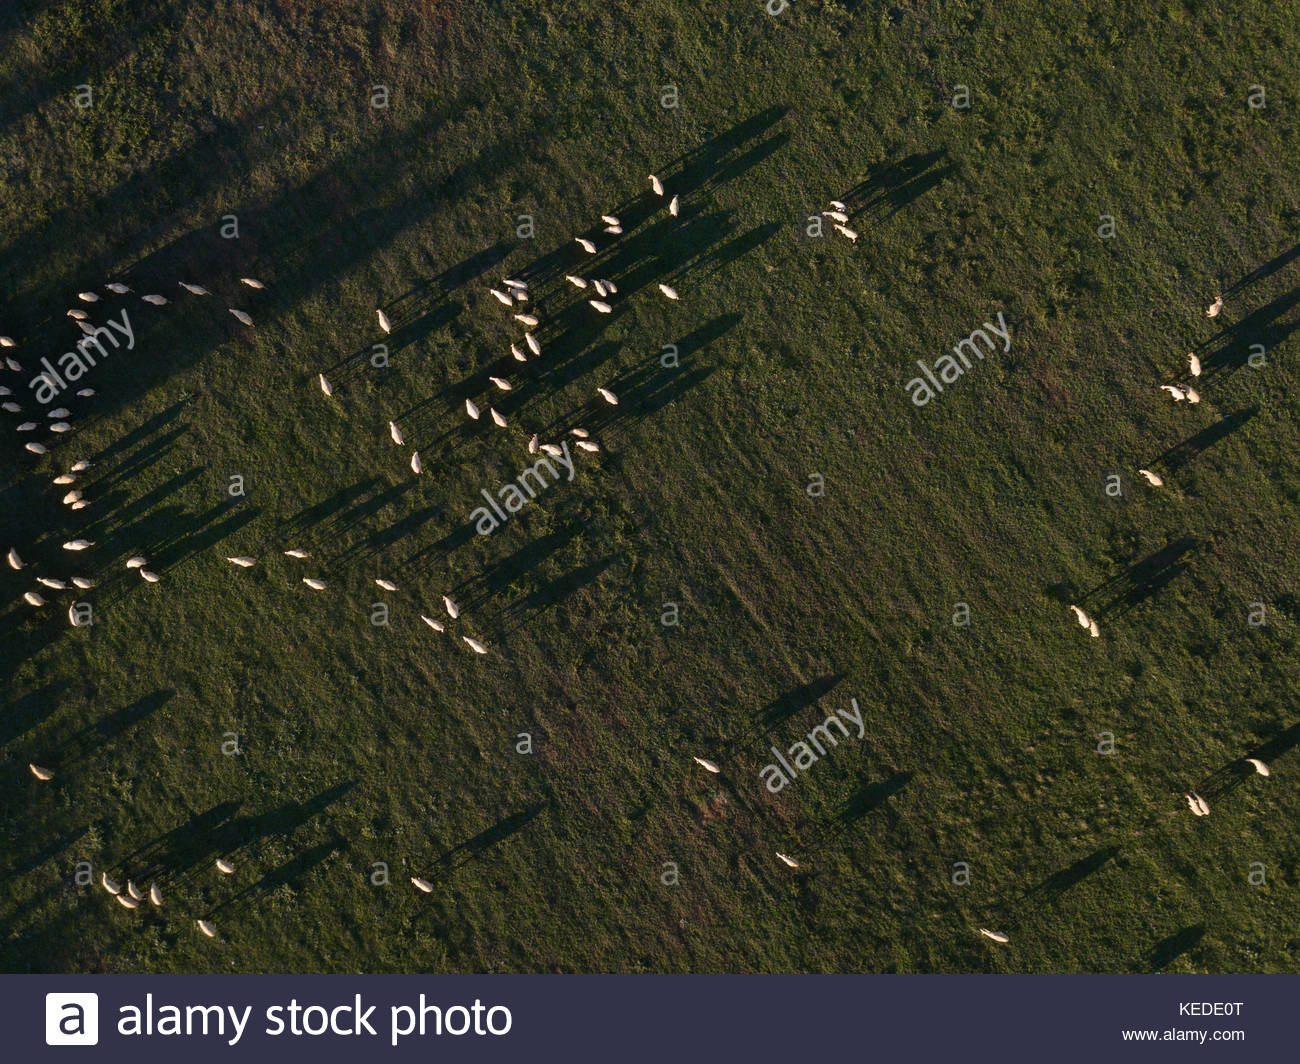sheep: (229, 305, 255, 327), (177, 279, 209, 296), (694, 754, 722, 773), (35, 576, 70, 591), (1177, 380, 1200, 404), (1139, 466, 1164, 487), (1245, 755, 1270, 777), (462, 635, 489, 655), (375, 307, 394, 334), (6, 547, 28, 570), (835, 221, 858, 243), (1070, 604, 1092, 628), (441, 593, 461, 618), (523, 332, 543, 356), (1191, 787, 1210, 813), (980, 926, 1010, 943), (419, 612, 444, 632), (775, 850, 800, 870), (101, 867, 120, 893), (1204, 292, 1222, 318), (116, 889, 138, 910), (489, 287, 513, 307), (30, 764, 56, 781), (658, 282, 680, 301), (319, 371, 335, 398), (59, 538, 96, 550), (149, 879, 164, 907), (227, 554, 257, 568), (412, 876, 434, 895), (388, 419, 404, 445), (507, 342, 529, 362), (1184, 793, 1203, 816), (24, 590, 48, 607), (648, 172, 665, 196), (1186, 351, 1202, 376), (198, 918, 217, 939), (598, 387, 620, 405), (141, 291, 170, 305), (75, 316, 97, 334), (574, 235, 597, 253), (1162, 383, 1184, 401), (490, 376, 514, 392), (588, 298, 612, 314), (488, 407, 507, 427), (214, 858, 235, 875), (25, 440, 48, 456), (502, 277, 528, 291), (375, 577, 398, 592), (514, 313, 538, 328), (126, 878, 143, 900), (140, 566, 162, 582), (566, 273, 587, 289), (301, 576, 326, 590), (526, 430, 540, 455), (48, 405, 73, 418), (107, 282, 133, 295), (567, 425, 591, 439), (465, 398, 480, 419), (240, 277, 265, 289), (412, 448, 425, 473), (38, 369, 60, 383), (591, 277, 607, 296), (575, 439, 599, 452), (540, 442, 561, 456), (828, 208, 850, 223), (123, 556, 148, 568), (72, 576, 95, 589), (53, 473, 77, 485), (284, 548, 310, 558), (60, 490, 82, 503), (78, 289, 99, 302), (1, 400, 21, 414), (4, 356, 24, 371), (668, 193, 680, 216), (1087, 618, 1100, 637), (15, 421, 40, 431), (601, 214, 620, 226), (828, 200, 847, 212), (76, 387, 95, 398), (67, 309, 87, 319), (71, 460, 91, 470), (51, 421, 72, 430), (72, 500, 87, 510)
